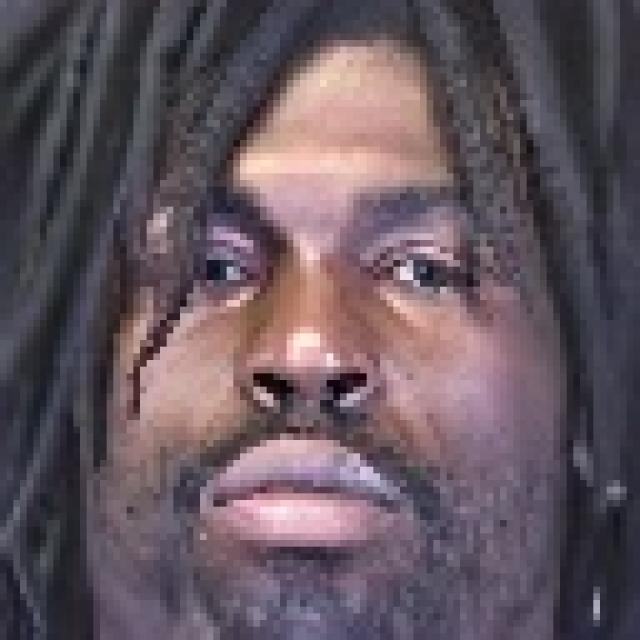sad: (74, 26, 594, 640)
